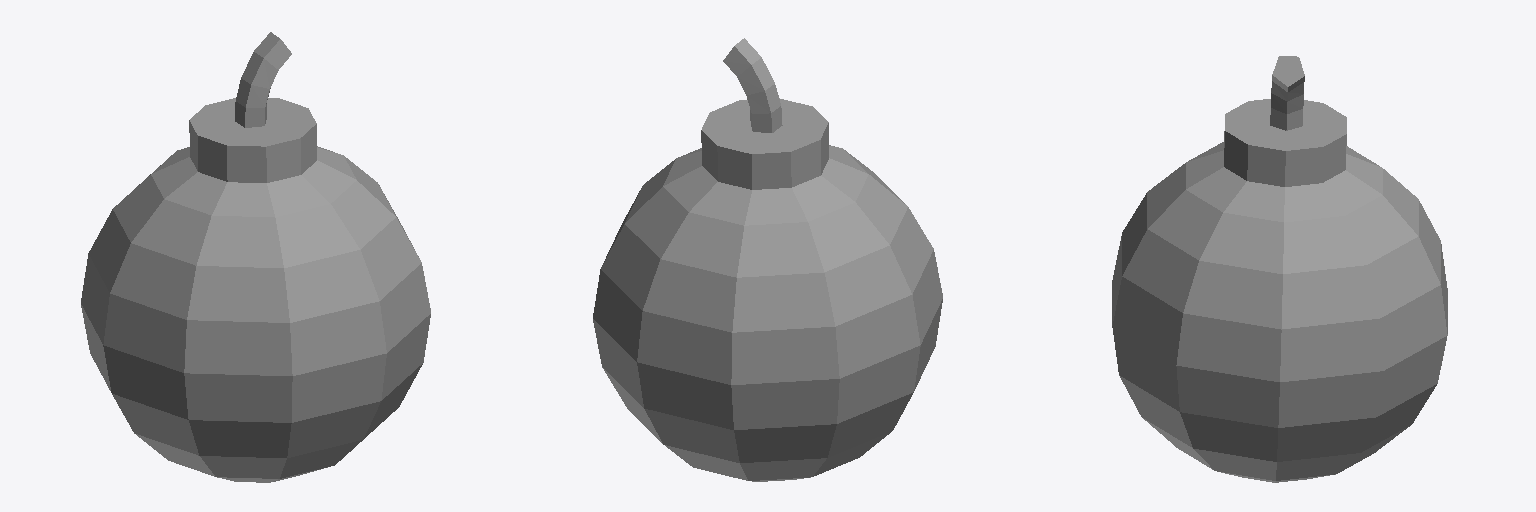
Rendered from bomb.obj.
3 views of the same model, side by side, from view 1: azimuth 30°, elevation 25°; view 2: azimuth 150°, elevation 25°; view 3: azimuth 270°, elevation 25° (orthographic).
Parts seen in each view (by area): view 1: Inst3D29_RefRep.223; view 2: Inst3D29_RefRep.223; view 3: Inst3D29_RefRep.223.
Boxes of the visible parts, x1=… form: Inst3D29_RefRep.223: x1=81, y1=32, x2=430, y2=482; Inst3D29_RefRep.223: x1=593, y1=38, x2=942, y2=481; Inst3D29_RefRep.223: x1=1112, y1=56, x2=1447, y2=482.
Bounding box in the file's own units: 21.94 × 29.08 × 20.86.